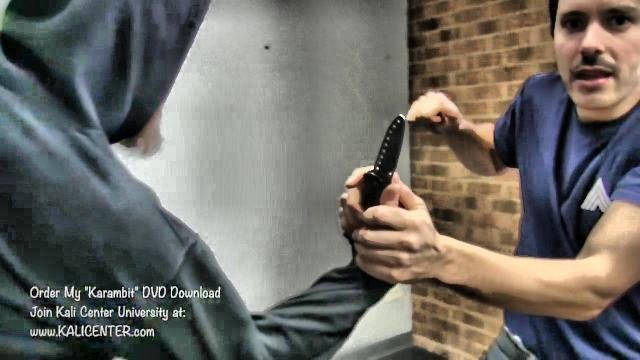knife: (334, 108, 410, 232)
